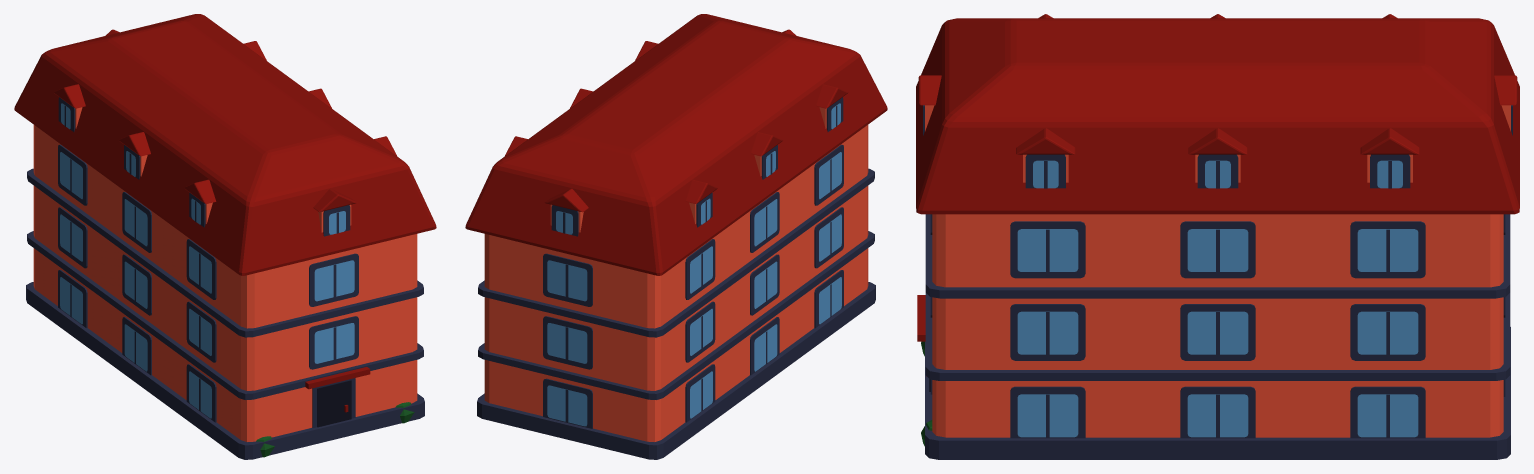
Rendered from house-1x2-3f-mansard-c.glb.
The picture shows the model from 3 angles, left to right: view 1: azimuth 30°, elevation 25°; view 2: azimuth 150°, elevation 25°; view 3: azimuth 270°, elevation 25°; orthographic projection. The views are drawn at different scales.
Visible parts, largest first — view 1: house-1x2-3f-mansard-c; view 2: house-1x2-3f-mansard-c; view 3: house-1x2-3f-mansard-c.
Boxes of the visible parts, x1,y1,x2,y2 form: house-1x2-3f-mansard-c: [14, 14, 436, 459]; house-1x2-3f-mansard-c: [465, 14, 887, 459]; house-1x2-3f-mansard-c: [916, 14, 1519, 459].
Bounding box in the file's own units: 0.9876 × 1.3 × 1.99.
Materials: 1 (1 with a texture image).
